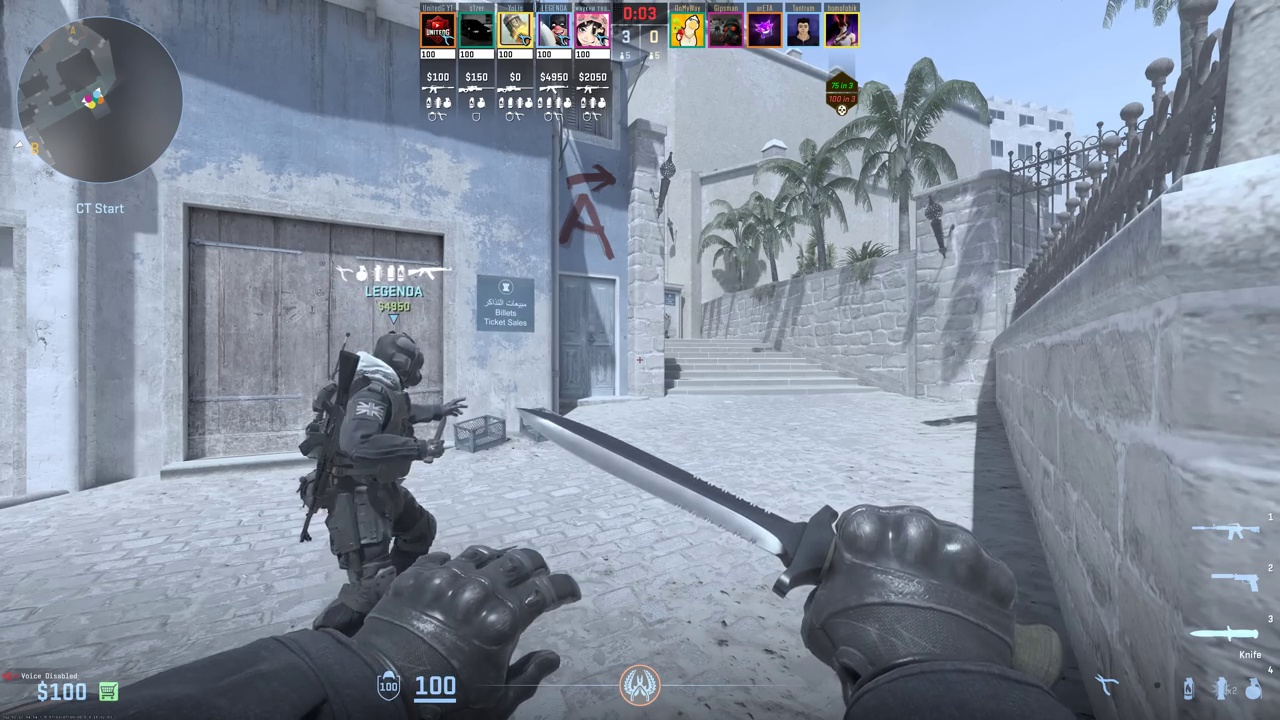CT: (312, 330, 440, 632)
